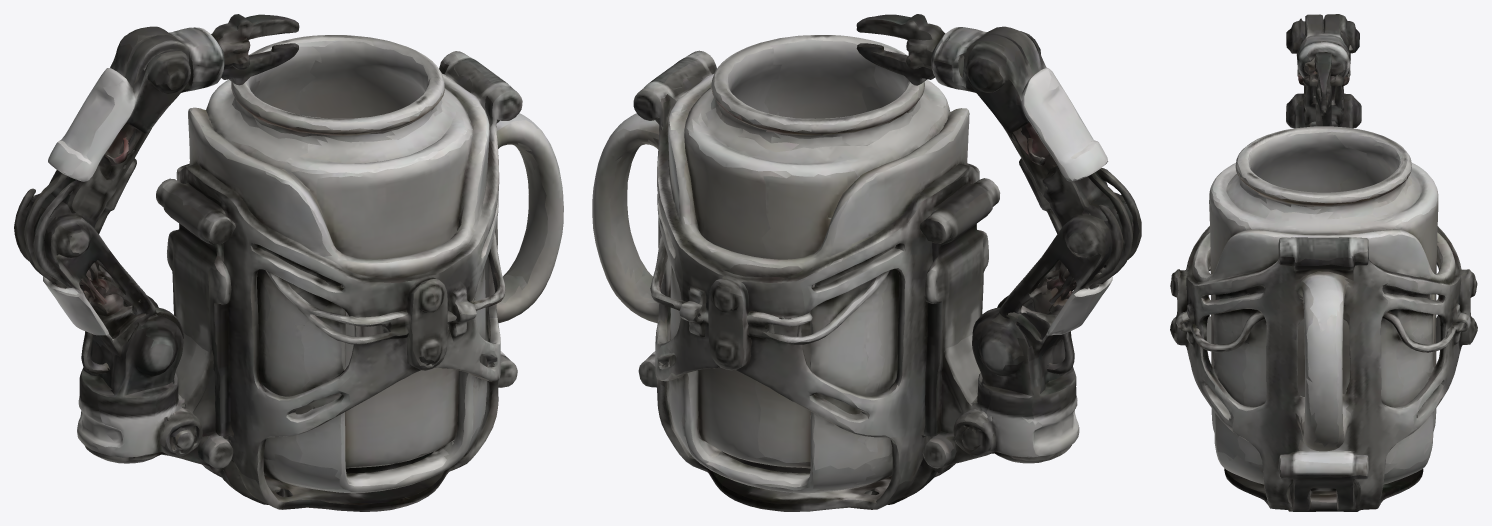
The picture shows the model from 3 angles, left to right: view 1: azimuth 30°, elevation 25°; view 2: azimuth 150°, elevation 25°; view 3: azimuth 270°, elevation 25°; orthographic projection. The views are drawn at different scales.
Visible parts, largest first — view 1: geometry_0; view 2: geometry_0; view 3: geometry_0.
Part boxes in pixels (bbox=[...]): geometry_0: bbox=[14, 14, 563, 511]; geometry_0: bbox=[592, 14, 1141, 511]; geometry_0: bbox=[1170, 14, 1477, 511].
Size of the model in its own units: 0.18 by 0.1542 by 0.1112.
Materials: 1 (1 with a texture image).
